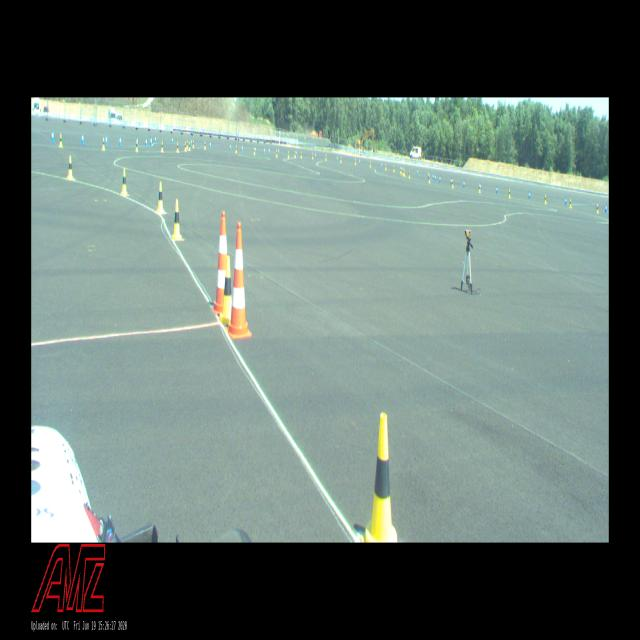blue_cone: (51, 129, 54, 142), (81, 132, 84, 145), (105, 135, 108, 145), (604, 203, 607, 213), (564, 196, 567, 205), (119, 136, 122, 145), (154, 135, 157, 143), (528, 191, 531, 199), (438, 175, 441, 182), (150, 136, 152, 146), (136, 136, 138, 146), (146, 137, 148, 146), (463, 179, 465, 188), (230, 143, 232, 151), (496, 185, 498, 193), (450, 177, 452, 185), (242, 144, 244, 152), (172, 136, 174, 144), (479, 183, 481, 191), (210, 141, 212, 148), (190, 139, 192, 146), (296, 150, 298, 157), (315, 152, 317, 159), (278, 148, 280, 155), (432, 174, 434, 180), (336, 156, 338, 161), (428, 173, 430, 178), (435, 174, 436, 181), (264, 147, 265, 154), (401, 166, 402, 173), (269, 148, 270, 154), (359, 159, 360, 164), (255, 147, 256, 152), (381, 163, 382, 168), (417, 170, 418, 174)
large_orange_cone: (224, 221, 252, 339), (211, 211, 227, 314)
yellow_cone: (360, 413, 400, 542), (219, 256, 232, 324), (171, 199, 183, 240), (156, 181, 164, 213), (121, 168, 128, 196), (67, 156, 74, 179), (59, 134, 63, 147), (102, 138, 105, 150), (176, 142, 179, 152), (569, 199, 572, 208), (508, 189, 511, 198), (184, 142, 187, 151), (478, 184, 481, 193), (428, 175, 431, 183), (136, 140, 138, 151), (161, 142, 163, 152), (596, 204, 598, 213), (544, 195, 546, 204), (288, 150, 290, 159), (276, 149, 278, 158), (452, 179, 454, 188), (204, 141, 206, 150), (235, 145, 237, 153), (300, 151, 302, 159), (312, 152, 314, 160), (393, 165, 395, 172), (354, 158, 356, 165), (192, 140, 194, 147), (340, 156, 342, 163), (408, 171, 410, 178), (325, 154, 327, 161), (294, 151, 296, 158), (402, 168, 404, 175), (189, 142, 190, 150), (370, 161, 371, 168), (254, 148, 255, 155), (385, 164, 386, 171), (404, 169, 405, 176), (400, 167, 401, 174), (187, 141, 188, 148)
